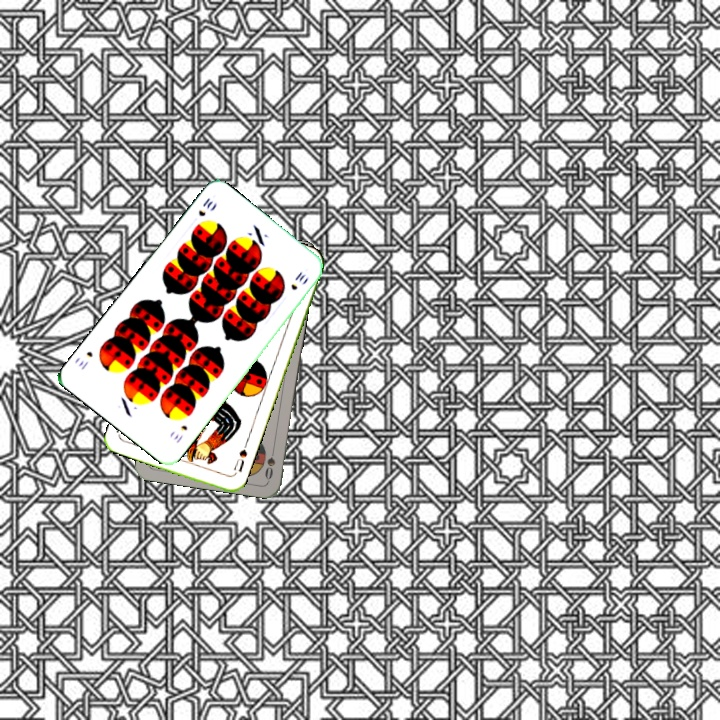S10: (194, 193, 216, 219), (170, 421, 190, 446)
SO: (261, 442, 278, 482)
SU: (229, 445, 250, 475)
